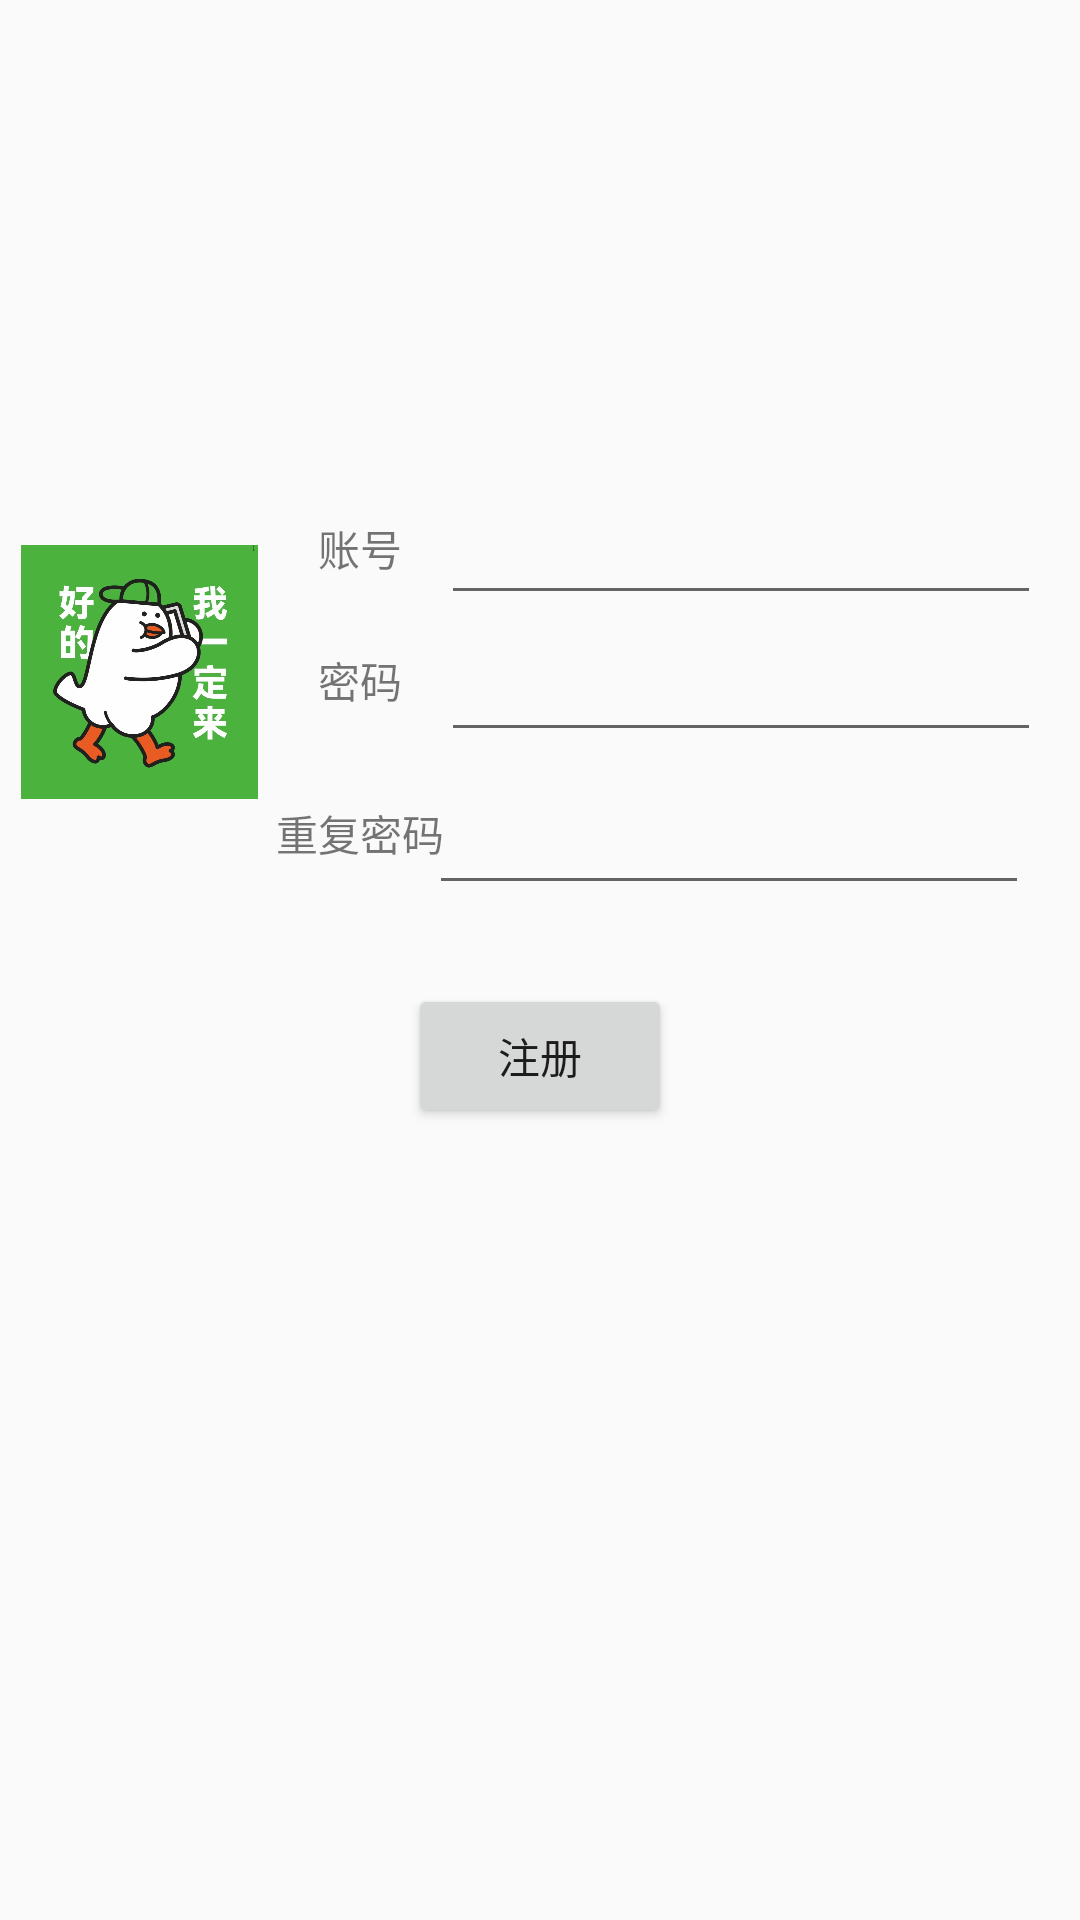

Icons on this 1080x1920 Android screen, each with the point to tap as [x,y]:
registerpic: [139,672]
